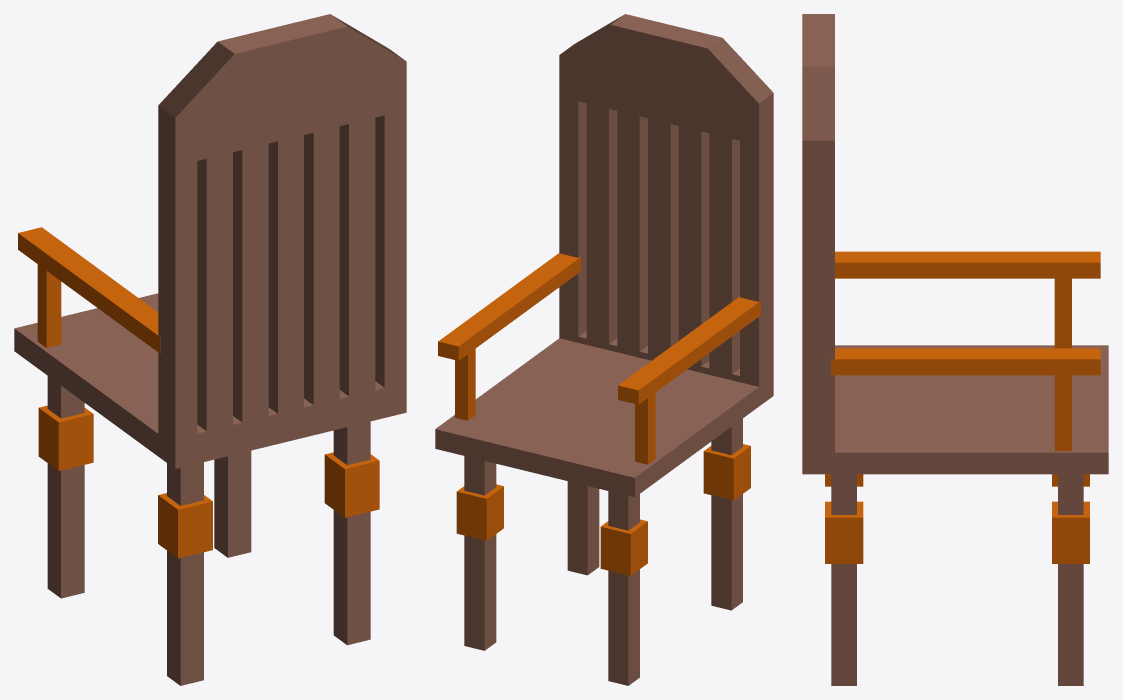
File: 1a60f928-8fdb-4d06-abfe-8128bb4d8d14.glb
3 renders of one model, left to right at view 1: azimuth 30°, elevation 25°; view 2: azimuth 150°, elevation 25°; view 3: azimuth 270°, elevation 25°, orthographic. The views are drawn at different scales.
Visible parts, largest first — view 1: Box010, Box009, Box007, Box006, Box004, Box014, Box001, Box008, Box003, Box005, Box013; view 2: Box010, Box009, Box001, Box004, Box011, Box014, Box006, Box007, Box003, Box002, Box005, Box013 (+1 smaller); view 3: Box009, Box010, Box011, Box014, Box001, Box007, Box008, Box002, Box012, Box013.
Boxes of the visible parts, x1,y1,x2,y2 form: Box010: (158, 14, 406, 468); Box009: (14, 293, 173, 466); Box007: (333, 421, 370, 645); Box006: (167, 462, 203, 685); Box004: (47, 376, 84, 598); Box014: (18, 227, 160, 353); Box001: (214, 450, 251, 557); Box008: (324, 452, 379, 517); Box003: (38, 405, 93, 470); Box005: (158, 493, 212, 558); Box013: (37, 264, 61, 347); Box010: (559, 14, 773, 406); Box009: (435, 338, 772, 497); Box001: (464, 456, 496, 650); Box004: (608, 491, 639, 685); Box011: (438, 253, 580, 360); Box014: (618, 296, 760, 404); Box006: (711, 418, 742, 610); Box007: (567, 481, 599, 575); Box003: (600, 519, 647, 575); Box002: (456, 484, 503, 540); Box005: (703, 444, 750, 500); Box013: (635, 392, 655, 464); Box009: (805, 345, 1108, 474); Box010: (802, 14, 834, 474); Box011: (831, 348, 1100, 375); Box014: (835, 251, 1100, 278); Box001: (1058, 474, 1083, 685); Box007: (831, 474, 856, 685); Box008: (825, 501, 863, 563); Box002: (1052, 501, 1089, 563); Box012: (1054, 375, 1071, 450); Box013: (1054, 278, 1071, 348).
Bounding box in the file's own units: 185197 × 482467 × 222342.
